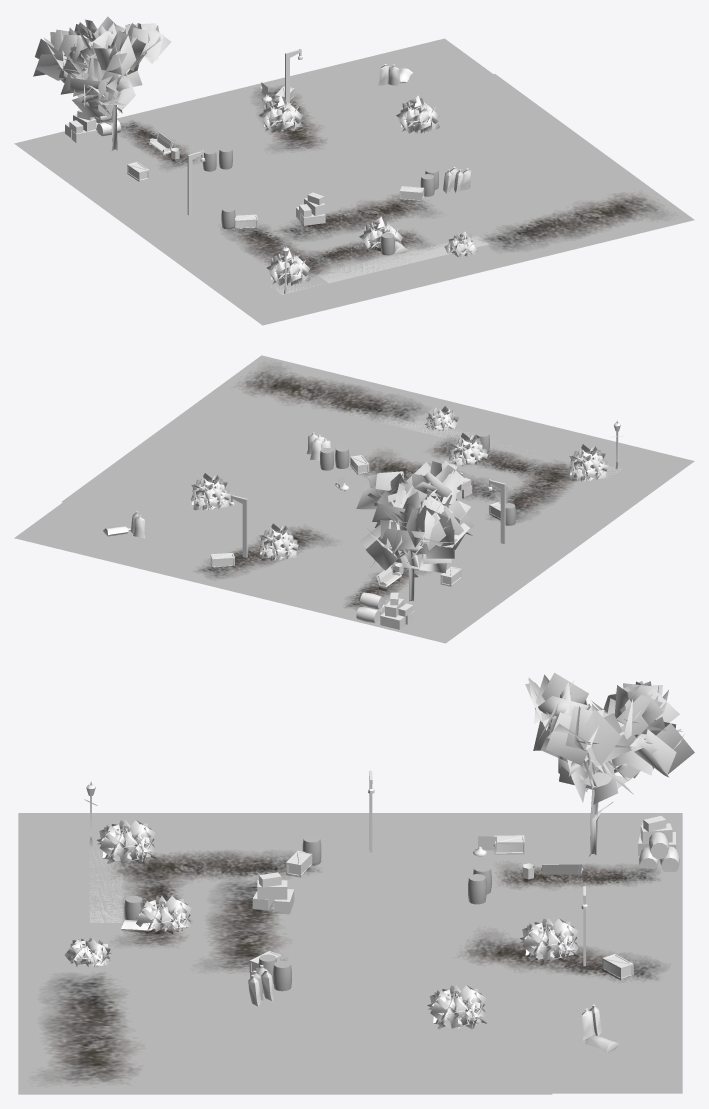
The model's file is propsonly_brew5-corner1.gltf.
3 renders of one model, top to bottom at view 1: azimuth 30°, elevation 25°; view 2: azimuth 150°, elevation 25°; view 3: azimuth 270°, elevation 25°, orthographic. The views are drawn at different scales.
Parts seen in each view (by area): view 1: prop_tree.002, file_b2_ground1.079, file_b2_ground4.013, file_b2_ground1.081, file_b2_ground3.039, file_b2_ground3.043, file_b12_ground.004, file_b2_ground1.080, file_b2_ground2.011, file_b12_ground.002, file_b2_ground3.042, file_b2_ground1.077 (+28 smaller); view 2: prop_tree.002, file_b2_ground1.079, file_b2_ground2.013, file_b2_ground1.081, file_b2_ground4.013, file_b2_ground1.078, file_b2_ground2.011, file_b2_ground1.074, file_b2_ground1.077, file_b8_ground3, file_b2_ground1.080, file_b2_ground3.044 (+30 smaller); view 3: prop_tree.002, file_b2_ground4.013, file_b2_ground2.011, file_b2_ground1.080, file_b2_ground1.079, file_b2_ground3.039, file_b2_ground1.078, file_b2_ground1.077, file_b2_ground3.042, file_b2_ground1.081, file_b2_ground1.073, file_b2_ground1.101 (+29 smaller).
Boxes of the visible parts, bbox=[...] form: prop_tree.002: bbox=[33, 16, 171, 150]; file_b2_ground1.079: bbox=[462, 202, 608, 263]; file_b2_ground4.013: bbox=[502, 145, 645, 203]; file_b2_ground1.081: bbox=[555, 183, 694, 240]; file_b2_ground3.039: bbox=[285, 151, 420, 212]; file_b2_ground3.043: bbox=[352, 38, 497, 99]; file_b12_ground.004: bbox=[235, 115, 377, 177]; file_b2_ground1.080: bbox=[456, 110, 592, 171]; file_b2_ground2.011: bbox=[410, 74, 547, 135]; file_b12_ground.002: bbox=[214, 270, 354, 325]; file_b2_ground3.042: bbox=[63, 157, 195, 218]; file_b2_ground1.077: bbox=[161, 229, 277, 289]; prop_tree.002: bbox=[356, 460, 473, 602]; file_b2_ground1.079: bbox=[294, 376, 438, 437]; file_b2_ground2.013: bbox=[99, 519, 242, 581]; file_b2_ground1.081: bbox=[208, 355, 354, 415]; file_b2_ground4.013: bbox=[162, 391, 298, 452]; file_b2_ground1.078: bbox=[210, 448, 342, 507]; file_b2_ground2.011: bbox=[61, 462, 195, 519]; file_b2_ground1.074: bbox=[481, 418, 609, 478]; file_b2_ground1.077: bbox=[516, 476, 645, 535]; file_b8_ground3: bbox=[455, 513, 594, 568]; file_b2_ground1.080: bbox=[111, 427, 247, 484]; file_b2_ground3.044: bbox=[184, 540, 320, 602]; prop_tree.002: bbox=[525, 672, 694, 856]; file_b2_ground4.013: bbox=[148, 1034, 291, 1094]; file_b2_ground2.011: bbox=[409, 1034, 552, 1094]; file_b2_ground1.080: bbox=[279, 1034, 422, 1094]; file_b2_ground1.079: bbox=[18, 983, 161, 1038]; file_b2_ground3.039: bbox=[279, 923, 422, 983]; file_b2_ground1.078: bbox=[279, 978, 422, 1038]; file_b2_ground1.077: bbox=[148, 813, 291, 872]; file_b2_ground3.042: bbox=[409, 813, 552, 873]; file_b2_ground1.081: bbox=[18, 1038, 161, 1094]; file_b2_ground1.073: bbox=[18, 923, 161, 983]; file_b2_ground1.101: bbox=[539, 868, 682, 927].
Size of what is drawn, in the model's own units: 5.12 by 1.63 by 5.23.
